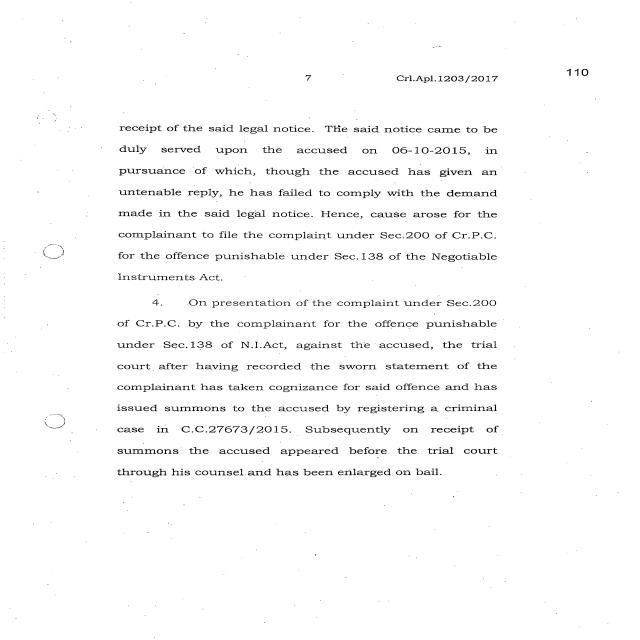page-number: (501, 1, 640, 138)
